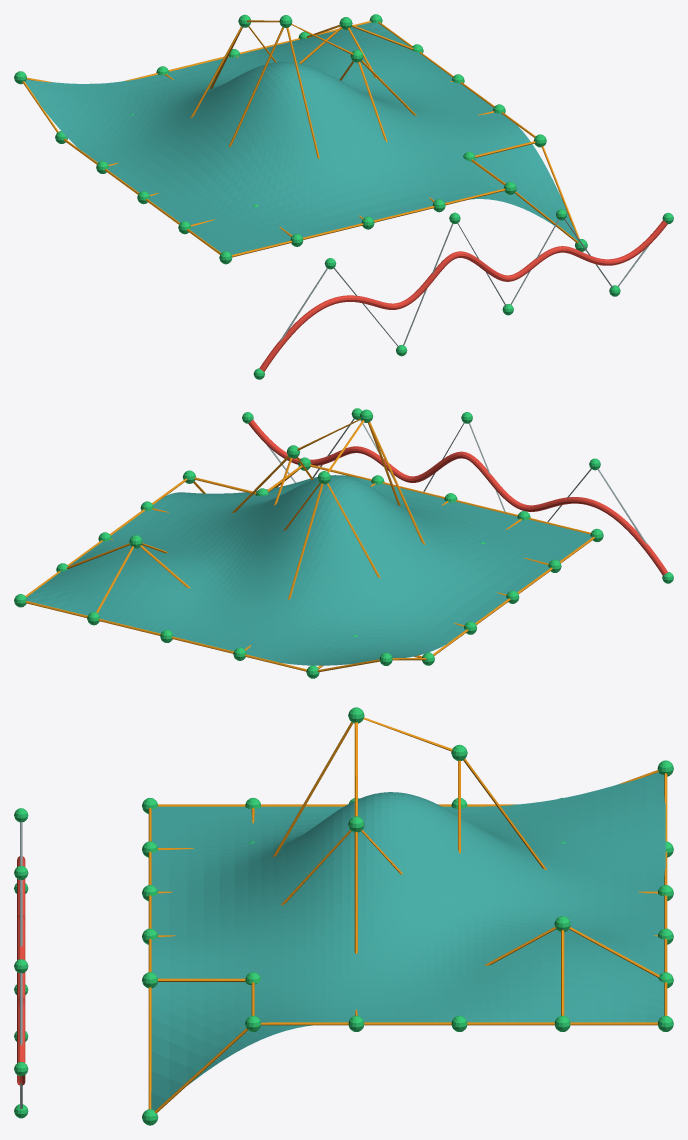
Rendered from ish09.glb.
3 views of the same model, one above another, from view 1: azimuth 30°, elevation 25°; view 2: azimuth 150°, elevation 25°; view 3: azimuth 270°, elevation 25° (orthographic). The views are drawn at different scales.
Parts seen in each view (by area): view 1: CV_Surf, CV_Curve, Hull, ish09_39, ish09_43, ish09_48, ish09_42, ish09_38; view 2: CV_Surf, CV_Curve, ish09_49, Hull, ish09_43, ish09_42, ish09_39, ish09_38, ish09_48, ish09_45; view 3: CV_Surf, ish09_48, CV_Curve, ish09_42, ish09_39, ish09_46, ish09_43, ish09_38, ish09_49, Hull.
Boxes of the visible parts, x1,y1,x2,y2 form: CV_Surf: (25, 22, 577, 254); CV_Curve: (259, 220, 667, 371); Hull: (279, 219, 649, 347); ish09_39: (231, 188, 578, 257); ish09_43: (149, 24, 494, 196); ish09_48: (378, 22, 579, 238); ish09_42: (165, 20, 363, 219); ish09_38: (22, 81, 220, 254); CV_Surf: (26, 475, 591, 665); CV_Curve: (248, 420, 667, 575); ish09_49: (25, 601, 379, 672); Hull: (267, 418, 647, 544); ish09_43: (152, 418, 506, 595); ish09_42: (244, 420, 448, 650); ish09_39: (275, 464, 590, 534); ish09_38: (392, 536, 594, 660); ish09_48: (25, 478, 205, 597); ish09_45: (110, 483, 464, 626); CV_Surf: (151, 772, 665, 1110); ish09_48: (154, 1022, 657, 1113); CV_Curve: (17, 856, 25, 1085); ish09_42: (158, 717, 657, 893); ish09_39: (148, 808, 151, 1109); ish09_46: (158, 927, 659, 981); ish09_43: (354, 722, 357, 1015); ish09_38: (158, 770, 658, 806); ish09_49: (664, 773, 667, 1015); Hull: (20, 822, 22, 1108).
Size of the model in its own units: 1.18 by 0.64 by 1.28.
